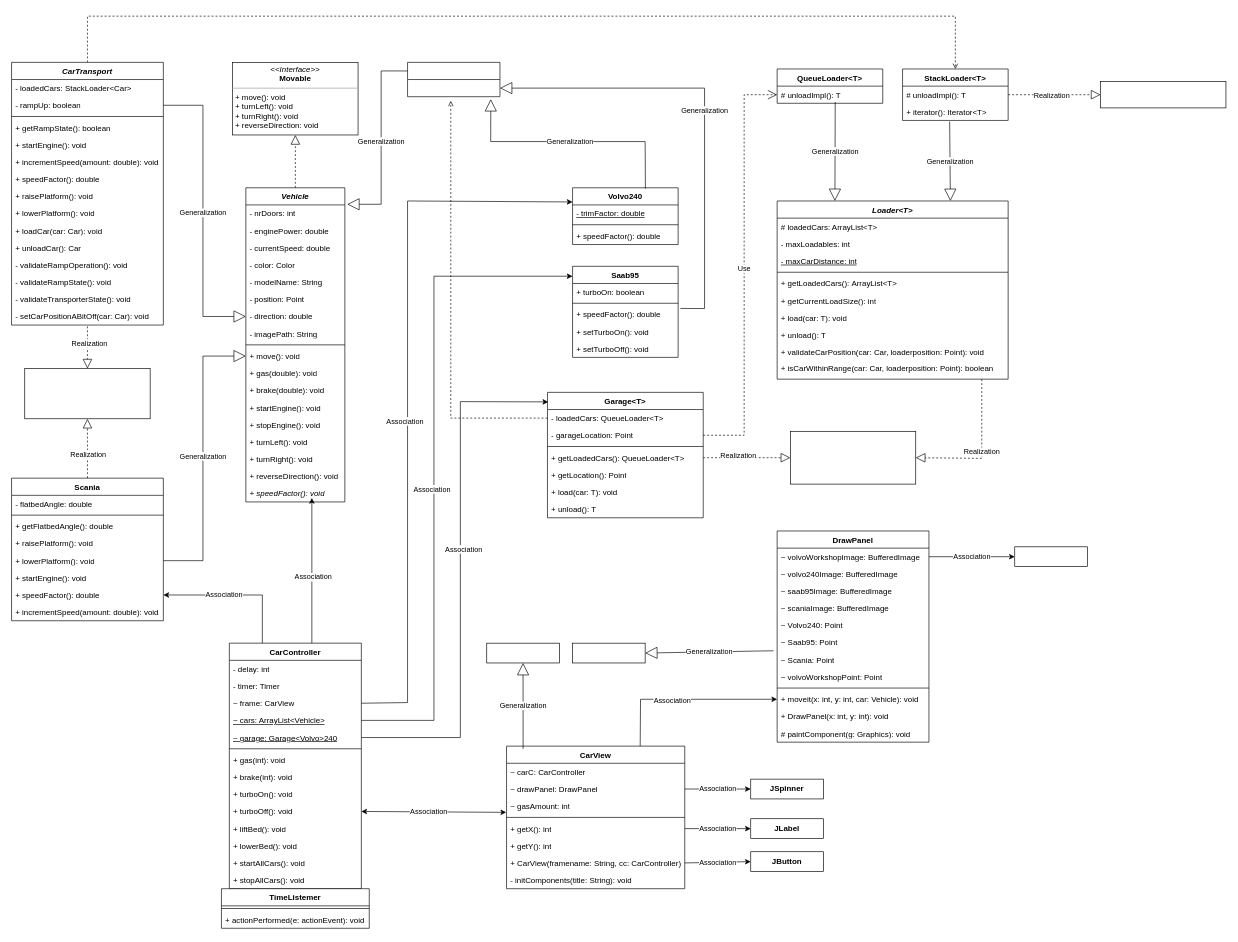
The diagram is 1238 pixels wide and 942 high, and some of its shapes have lost their labels. The centre of each missing label's shape, as x and y in pixels:
"<<Interface>> Iterable<T>" goes at point (1163, 94).
"<<Interface>> Loadable<T> + load(car: T): void + unload(): T" goes at point (853, 457).
"<<Interface>> Platform + raisePlatform(): void + lowerPlatform(): void" goes at point (87, 393).
"BufferedImage" goes at point (1050, 556).
"Car" goes at point (453, 79).
"JFrame" goes at point (522, 653).
"JPanel" goes at point (608, 653).
